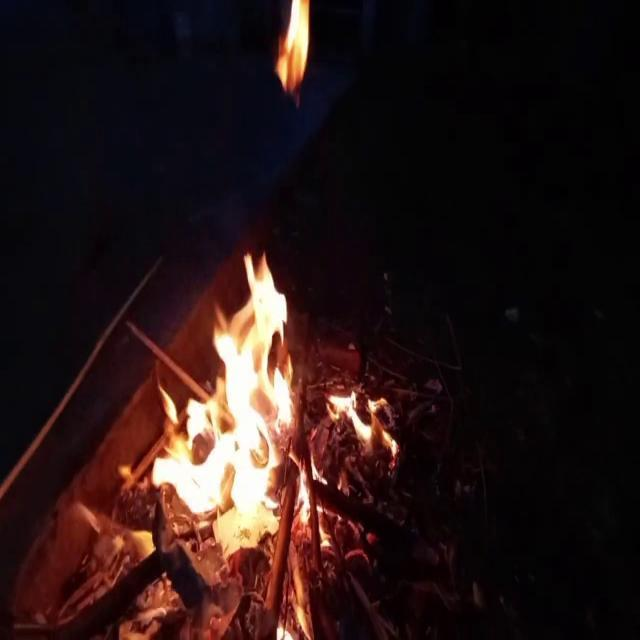Fire: (150, 240, 316, 568), (328, 379, 404, 465)
